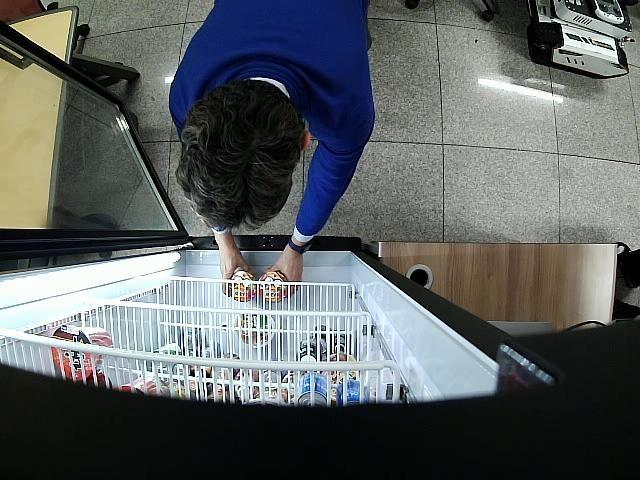06_nuguri_S: (260, 270, 288, 302), (232, 270, 256, 302)
